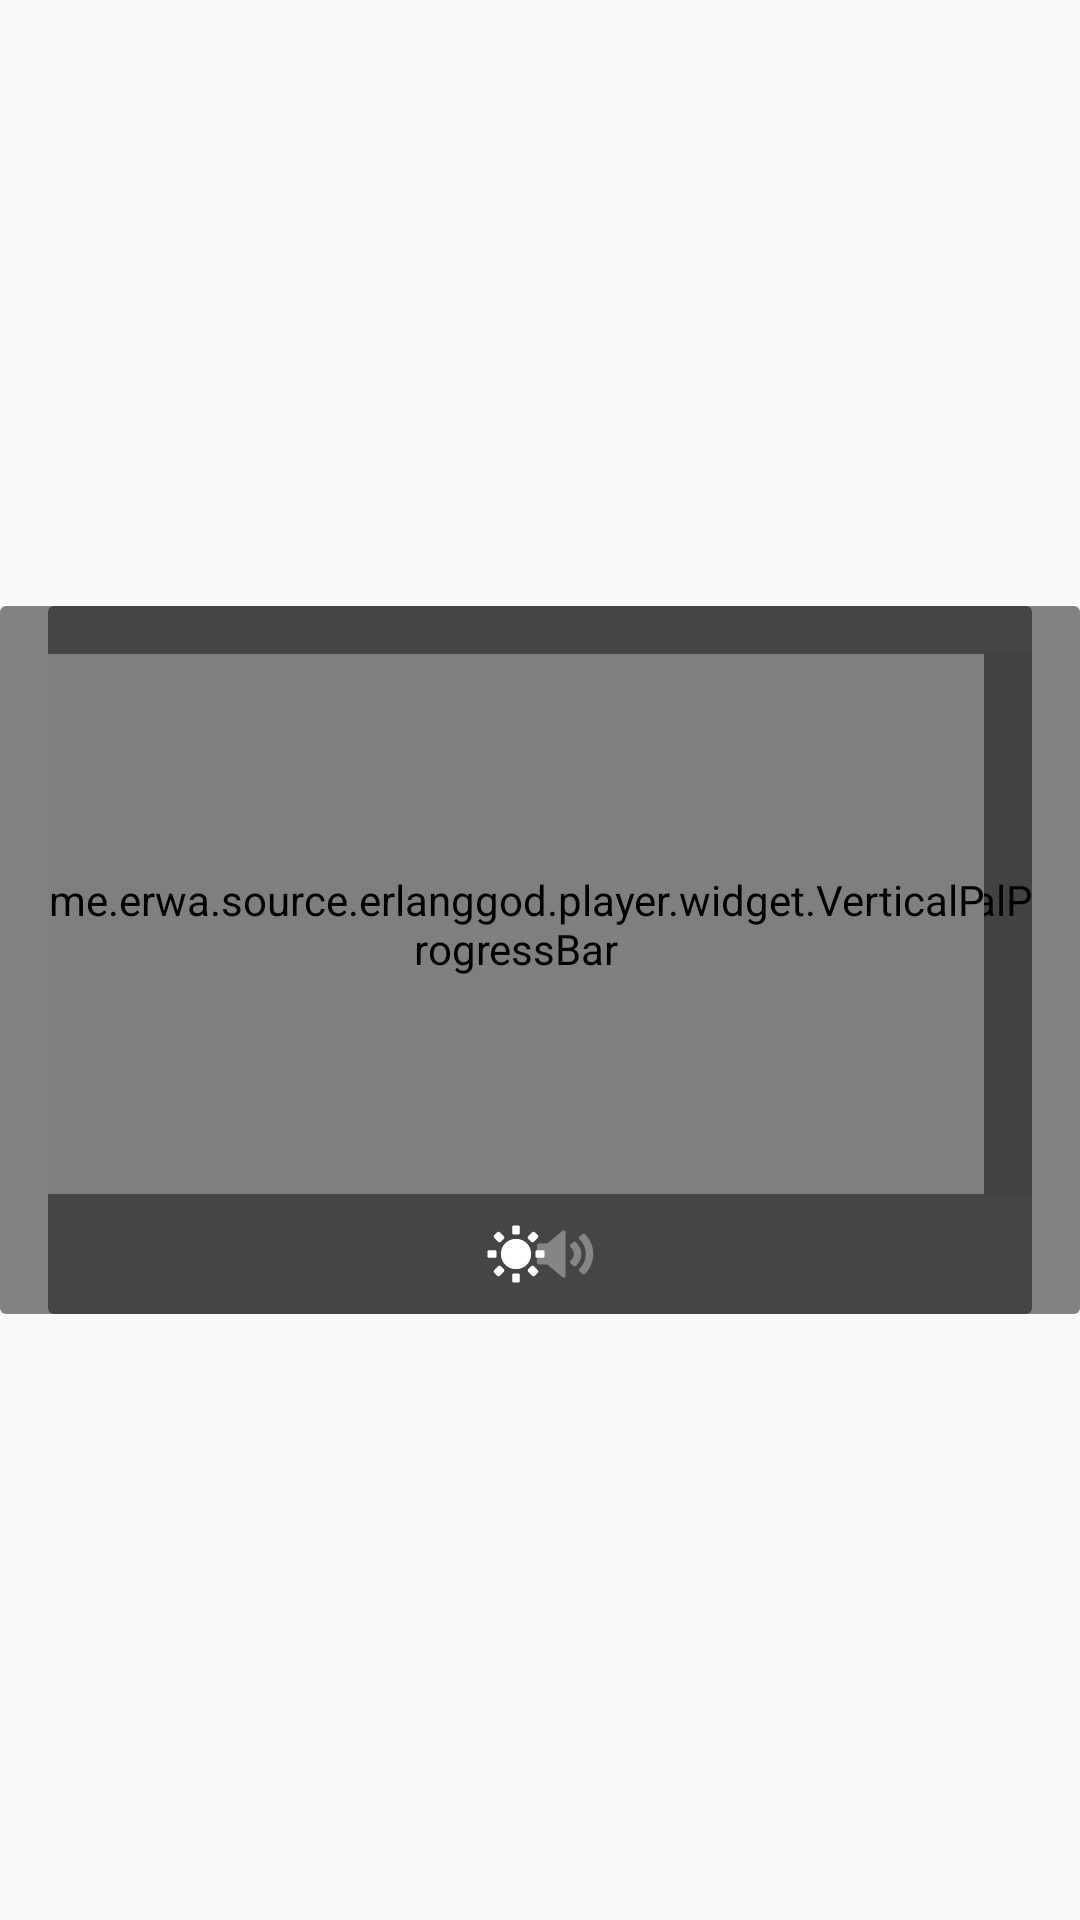

Icons on this 1080 × 1920 Android screen, each with the point to tap as (x=x, y=y):
controller state brightness: (x=513, y=1254)
controller state volume: (x=560, y=1254)
